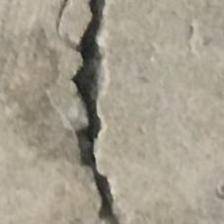Crack: (43, 0, 144, 224)
